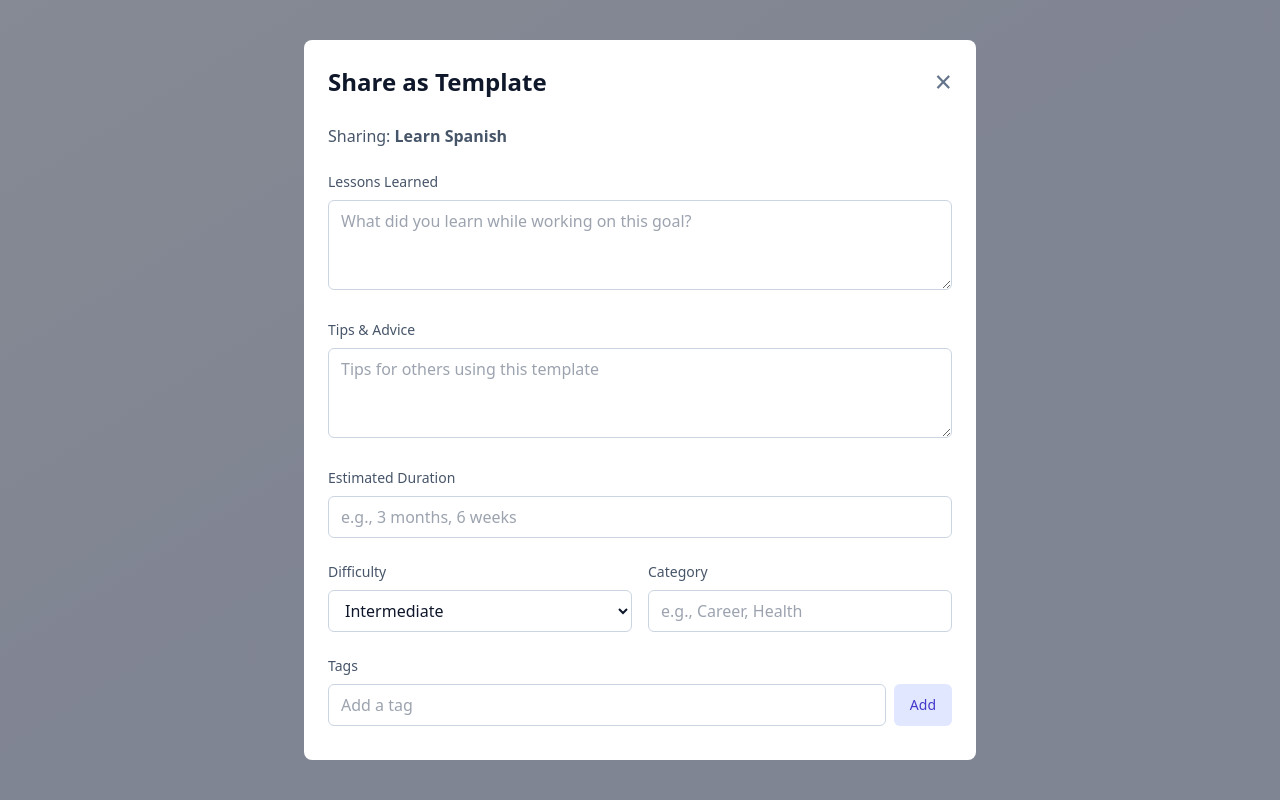
Test case: ShareGoalModal › can add a tag by clicking Add button
Type "immigration" into the field with placeholder "Add a tag" at (607, 705), box [328,684,886,726]
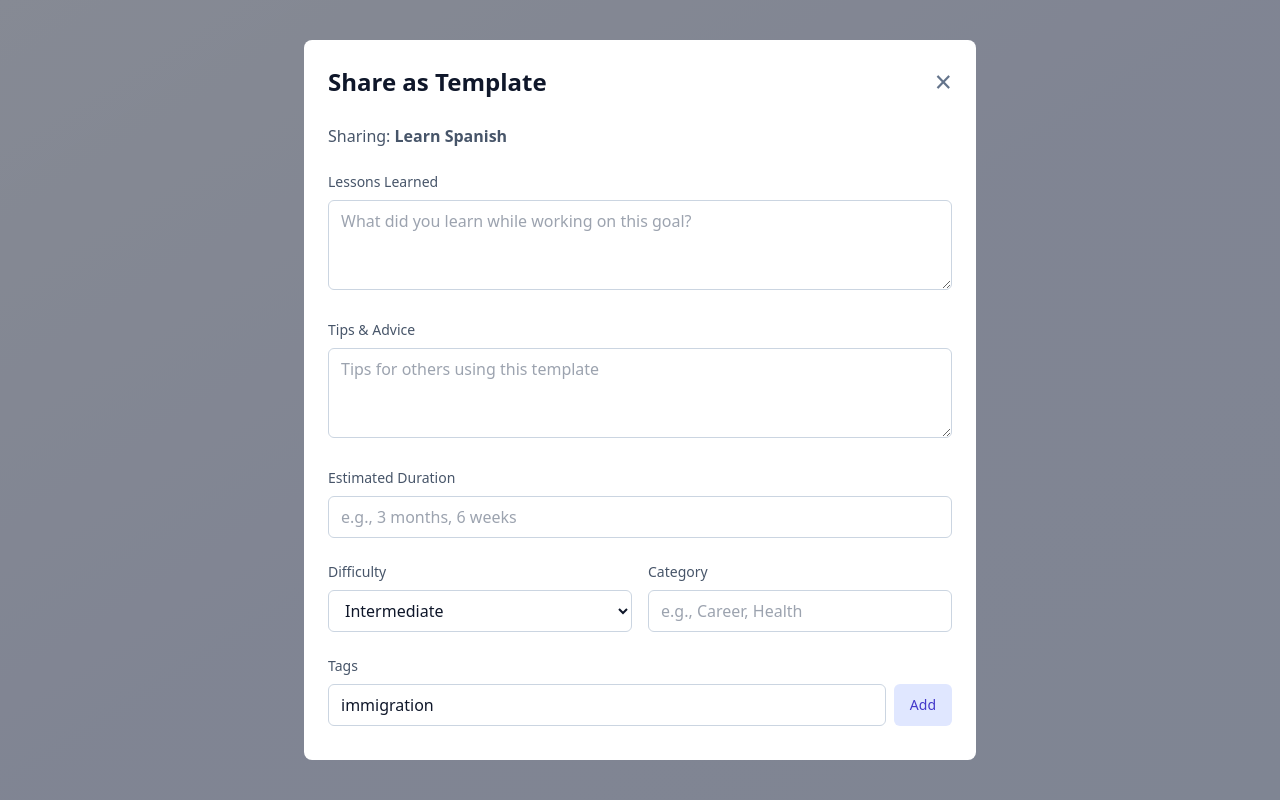
Click the button "Add" at (923, 705), box [894,684,952,726]
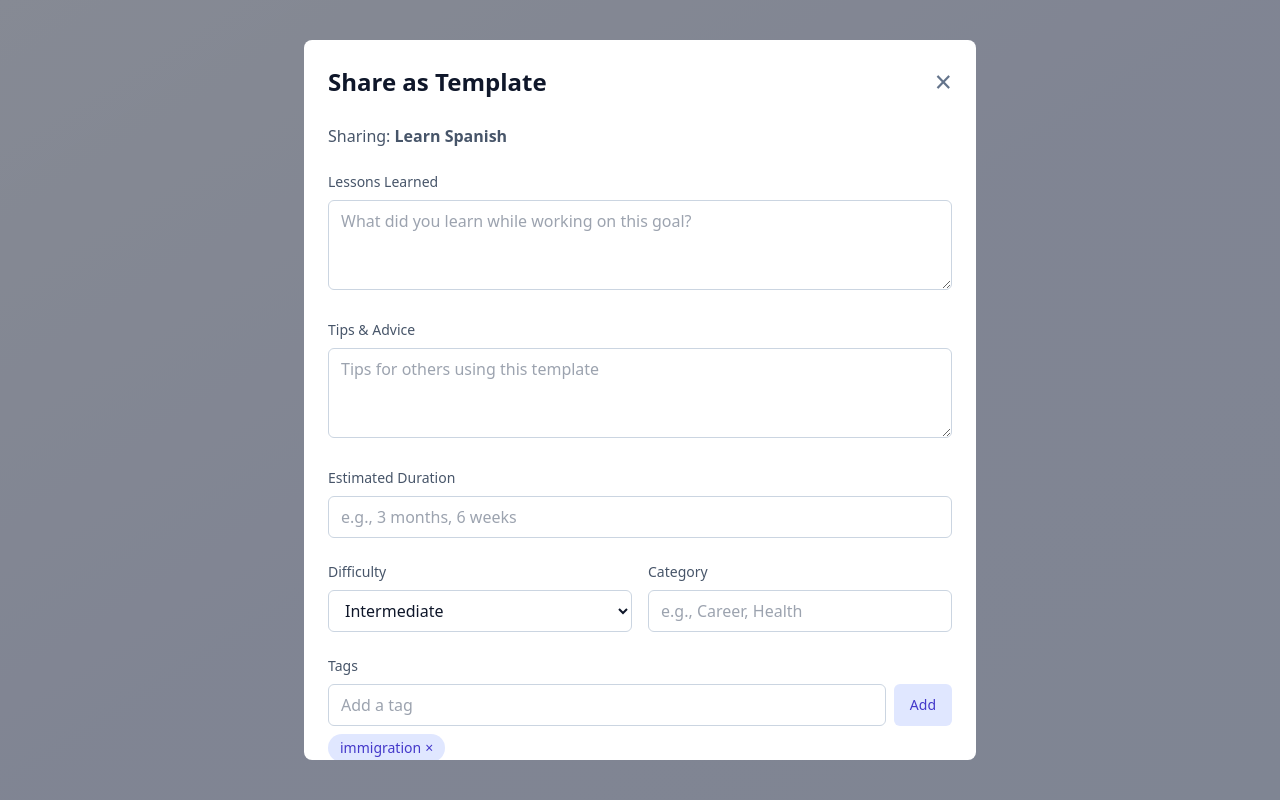
Result: the text "immigration" is shown at [340,738,421,757]
